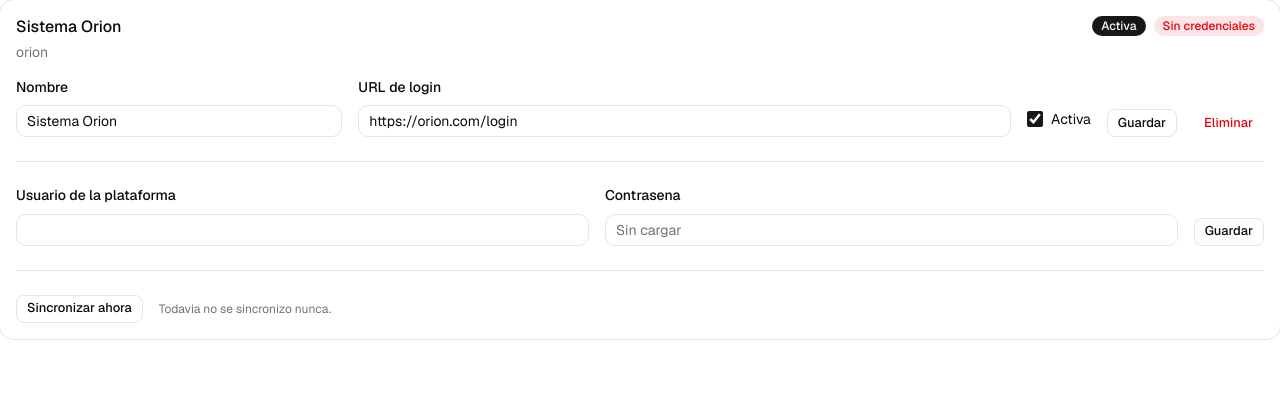
Scenario: sincronizar ahora manda el id y muestra el resultado
Click the button "Sincronizar ahora": (79, 308) [16, 294, 143, 322]
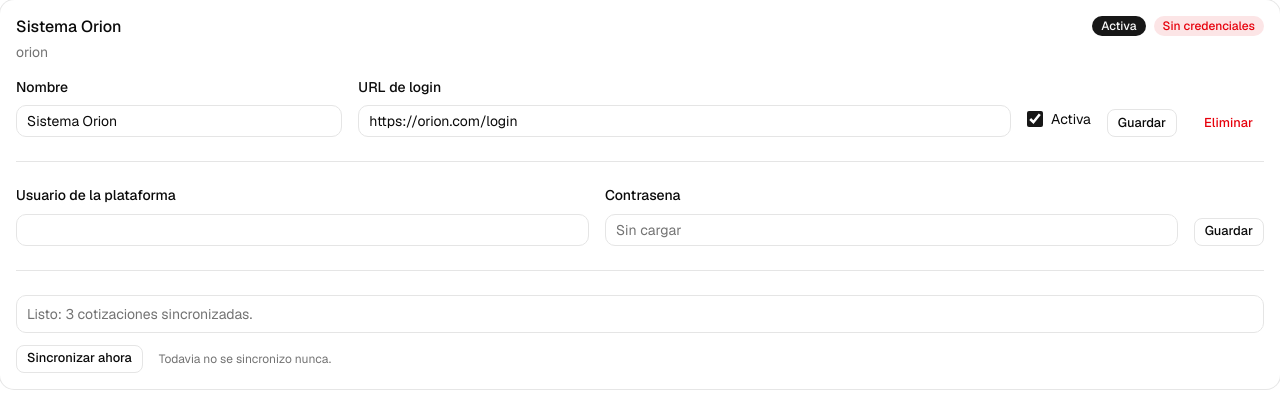
Expected: the text "Listo: 3 cotizaciones sincronizadas." is shown, [27, 304, 252, 322]
